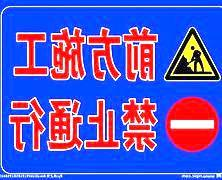sign: (1, 5, 220, 174)
